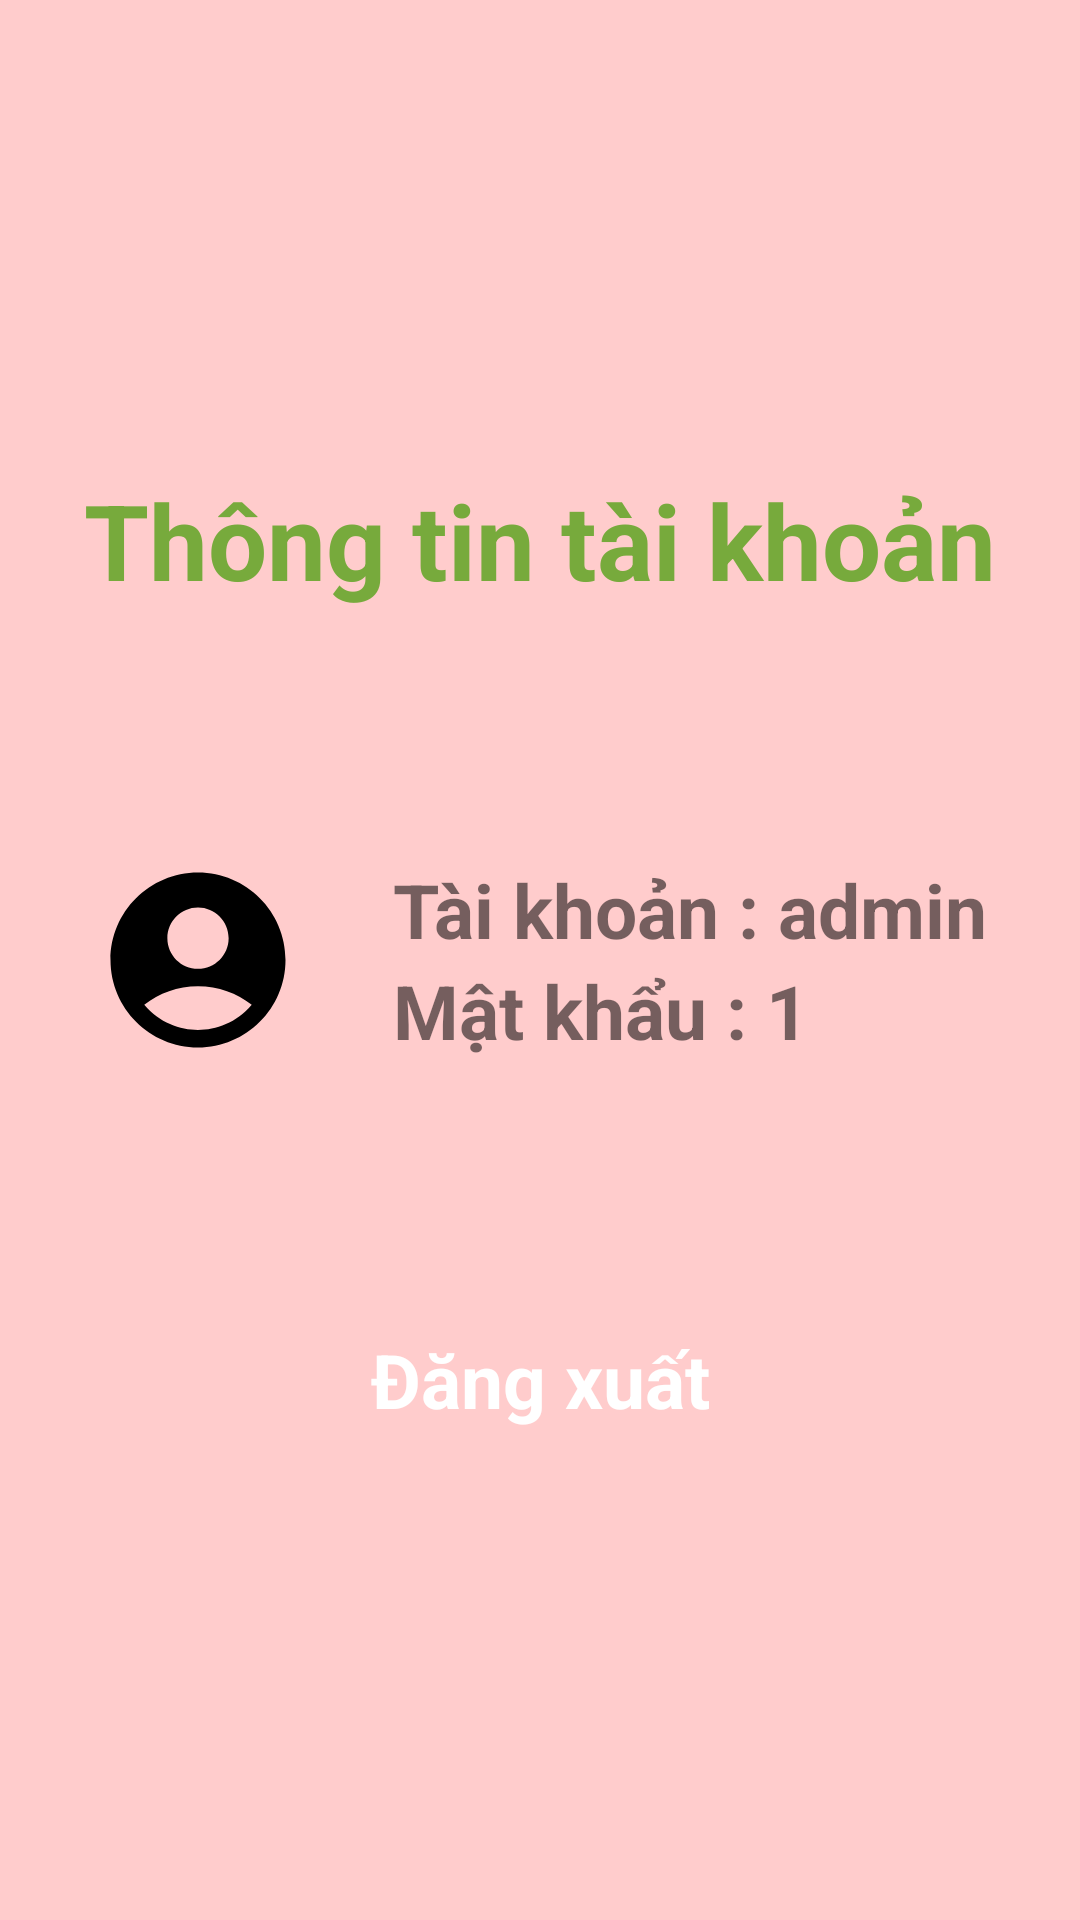

Where to tap for icons on this 1080px x 1920px app screen, as (x,y):
account circle: (198,960)
